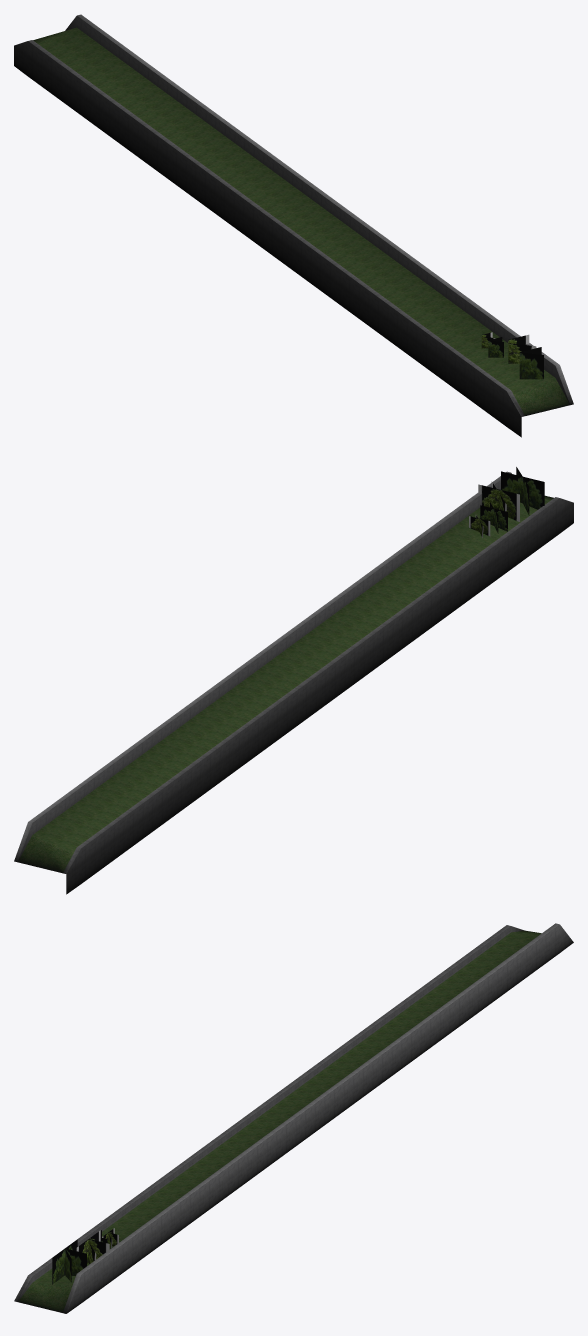
Rendered from AMB_SIBA_R.glb.
The picture shows the model from 3 angles, top to bottom: view 1: azimuth 30°, elevation 25°; view 2: azimuth 150°, elevation 25°; view 3: azimuth 330°, elevation 25°; orthographic projection.
Visible parts, largest first — view 1: LeftWall2, obj92; view 2: LeftWall2, obj92; view 3: LeftWall2, obj92.
Part boxes in pixels (x1=…): LeftWall2: x1=14, y1=14, x2=573, y2=437; obj92: x1=481, y1=332, x2=543, y2=379; LeftWall2: x1=14, y1=471, x2=573, y2=894; obj92: x1=469, y1=467, x2=544, y2=538; LeftWall2: x1=14, y1=923, x2=573, y2=1313; obj92: x1=52, y1=1228, x2=118, y2=1284.
Size of the model in its own units: 6.41 by 6.89 by 106.
Materials: 4 (4 with a texture image).
